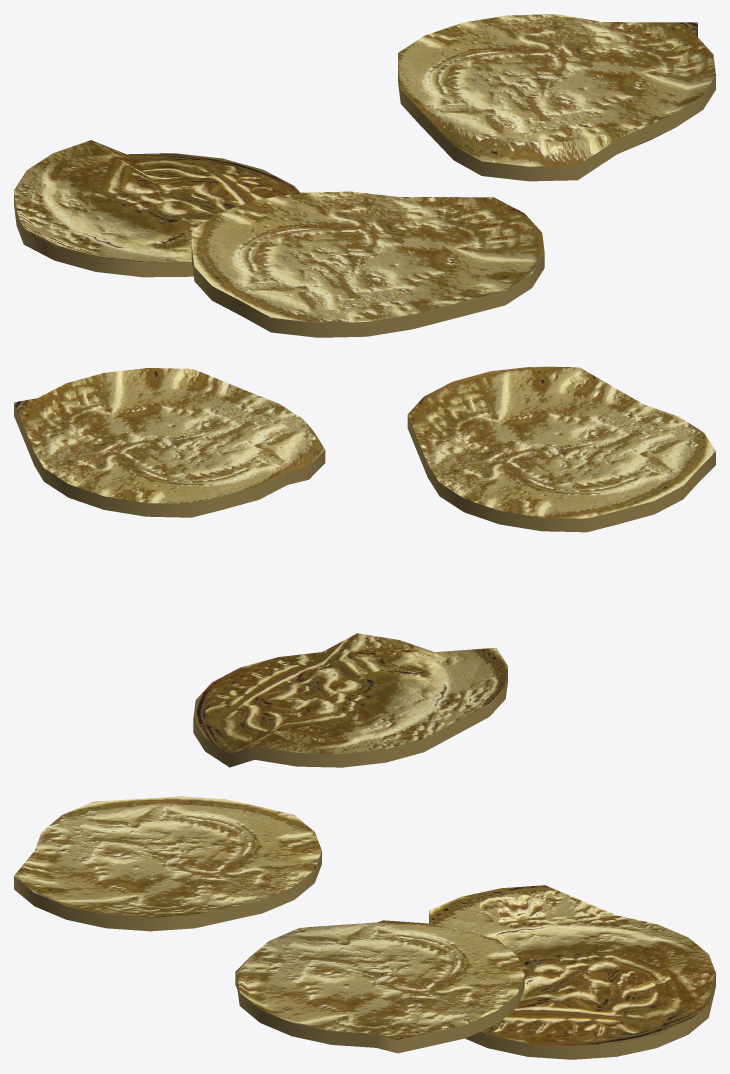
The model's file is E3coin.glb.
3 views of the same model, one above another, from view 1: azimuth 30°, elevation 25°; view 2: azimuth 150°, elevation 25°; view 3: azimuth 270°, elevation 25° (orthographic). The views are drawn at different scales.
Visible parts, largest first — view 1: Coins_Coin_3Coins2; view 2: Coins_Coin_3Coins2; view 3: Coins_Coin_3Coins2.
Part boxes in pixels (x1=…): Coins_Coin_3Coins2: x1=14, y1=14, x2=715, y2=337; Coins_Coin_3Coins2: x1=14, y1=366, x2=715, y2=767; Coins_Coin_3Coins2: x1=14, y1=796, x2=715, y2=1059.
Bounding box in the file's own units: 2.46 × 0.6703 × 2.7.
1 material, 1 textured.
